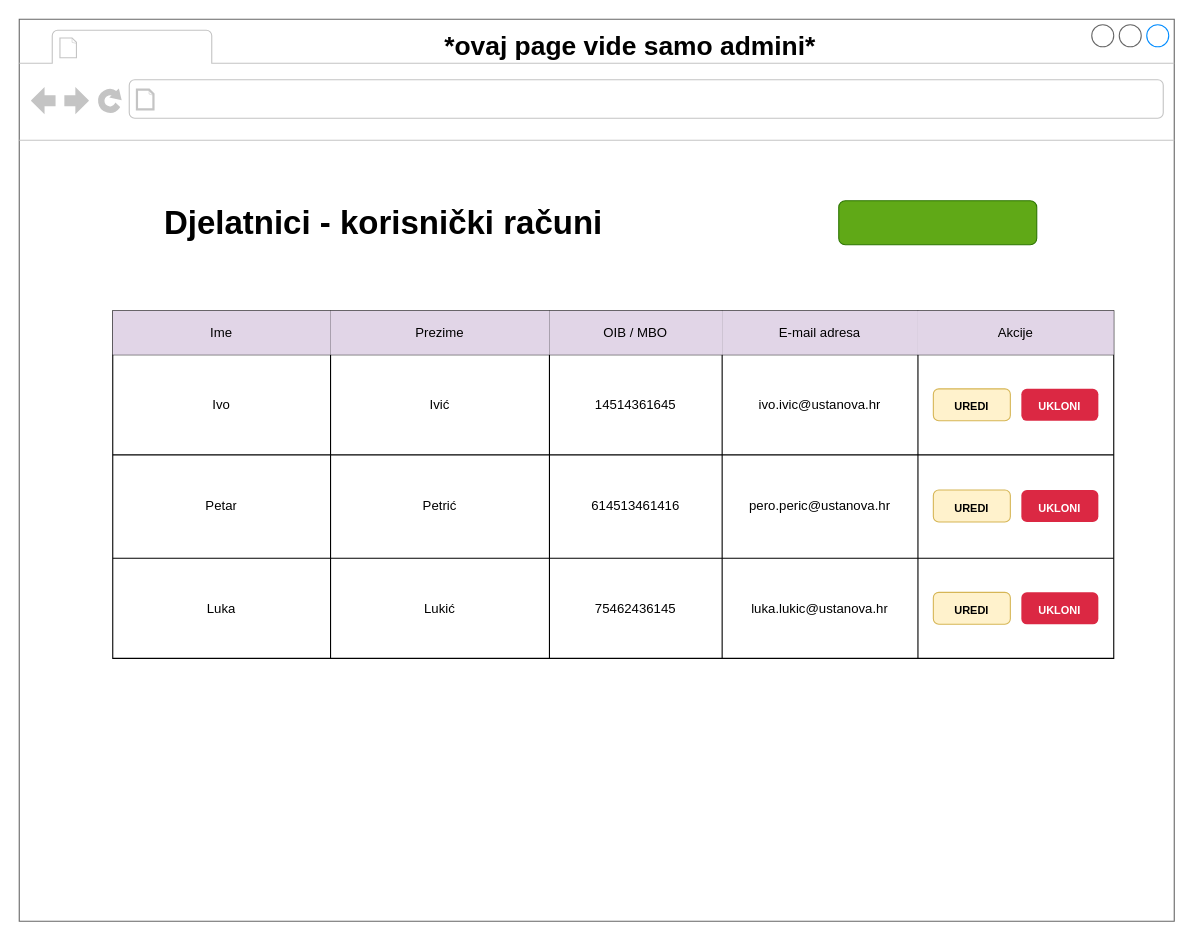
This 1194x941 diagram has some shape labels left out. Here are the shapes that lost their labels. From the top down, the centre of each, then its label:
(x=145, y=46): Page 9
(x=299, y=99): https://www.default.com
(x=937, y=222): + DODAJ DJELATNIKA
